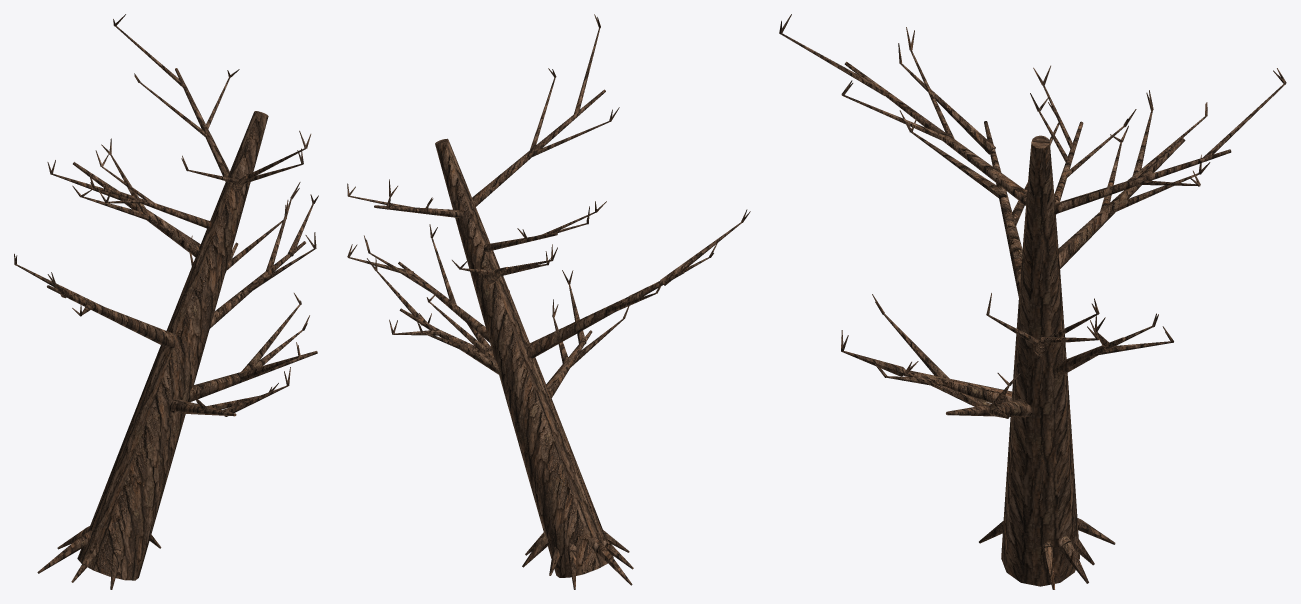
File: uprooted-leaning-v01.glb
3 views of the same model, side by side, from view 1: azimuth 30°, elevation 25°; view 2: azimuth 150°, elevation 25°; view 3: azimuth 270°, elevation 25° (orthographic). The views are drawn at different scales.
Visible parts, largest first — view 1: dead-tree-lean; view 2: dead-tree-lean; view 3: dead-tree-lean.
Part boxes in pixels (<box>): dead-tree-lean: <box>14,14,318,589</box>; dead-tree-lean: <box>347,14,750,589</box>; dead-tree-lean: <box>779,14,1286,589</box>.
Bounding box in the file's own units: 6.83 × 9.38 × 7.07.
Materials: 1 (1 with a texture image).
